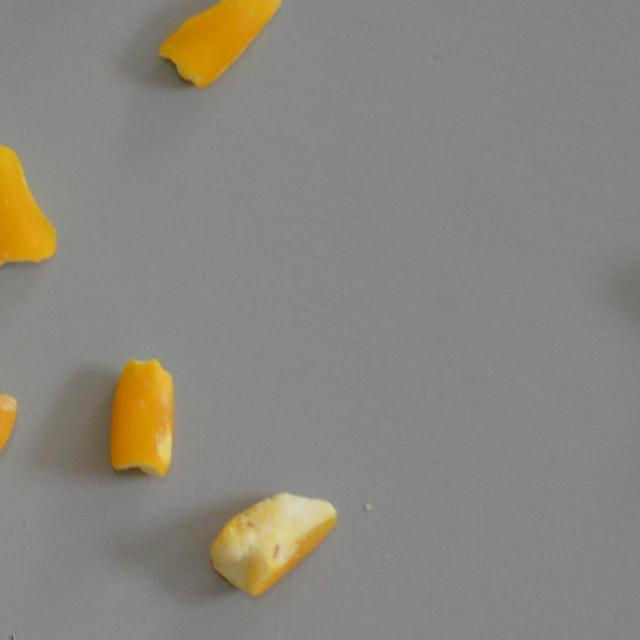dañado: (206, 489, 338, 599)
estandar: (188, 0, 264, 96)
pelicula: (108, 357, 178, 474), (0, 142, 58, 272), (0, 391, 18, 474)
